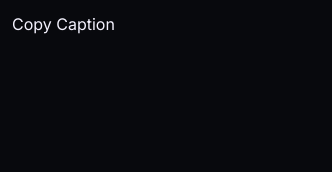
Test: CopyCaptionButton › copies the authorized caption text on explicit request
Click the button "Copy Caption".
click(63, 24)  # box [12,12,115,36]
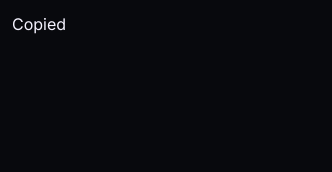
Expected: the button "Copied" is shown, [12,12,66,36]
